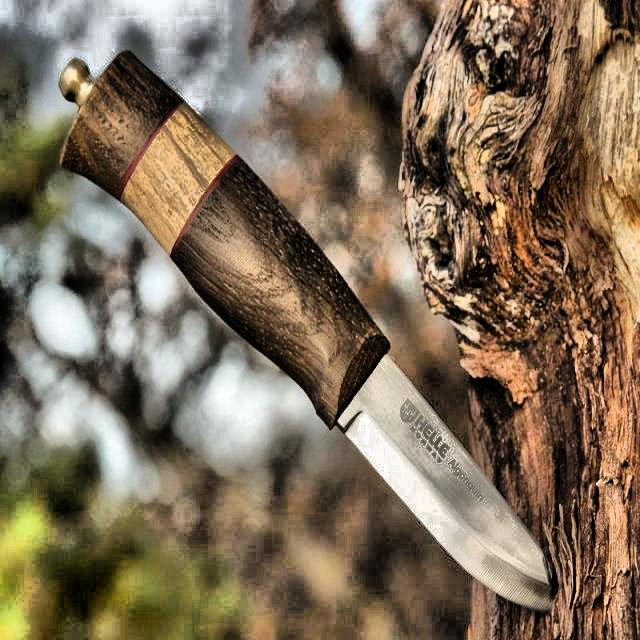knife: (61, 52, 553, 610)
